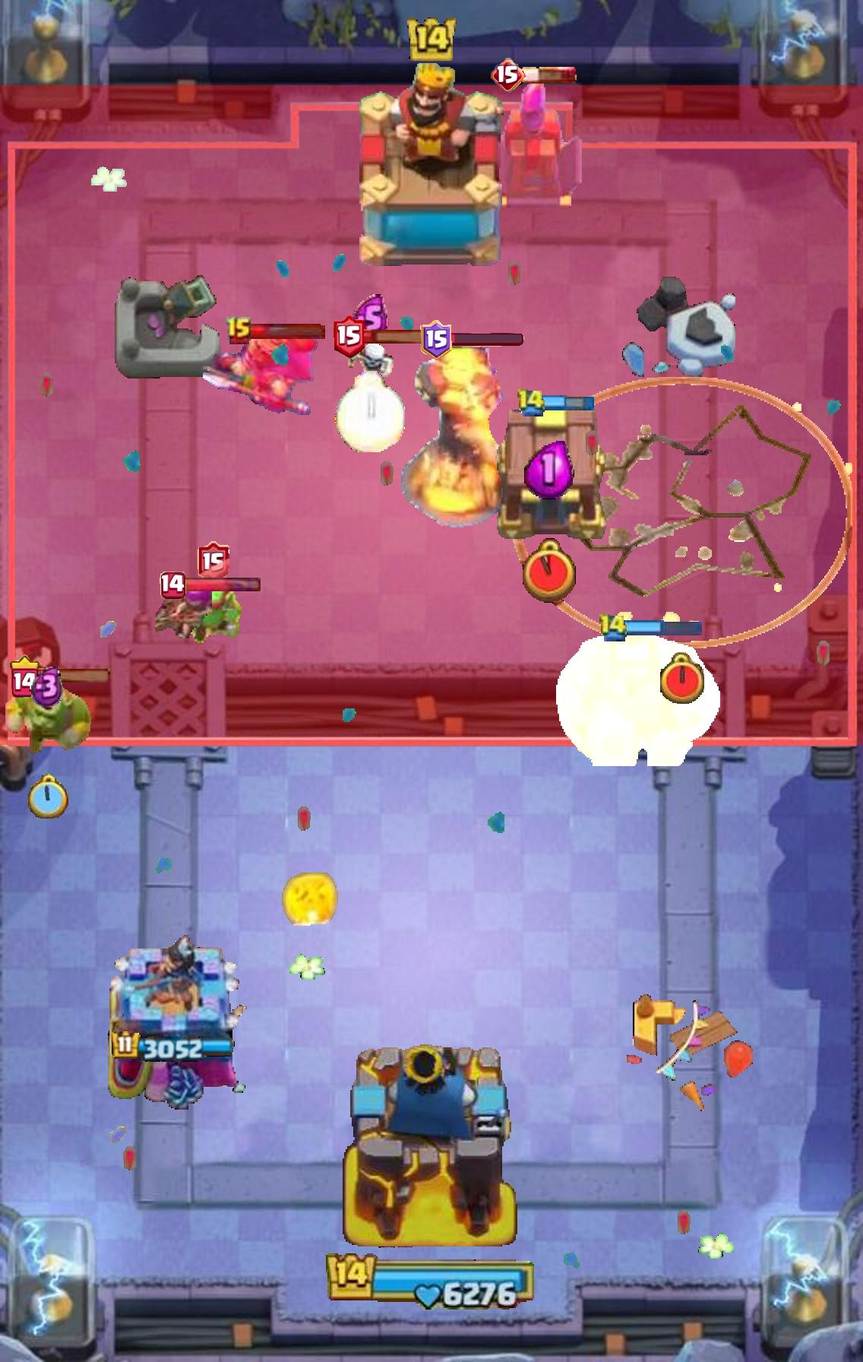elixir: (524, 437, 574, 499), (351, 295, 389, 344), (31, 665, 63, 708)
fireball: (277, 869, 343, 939)
